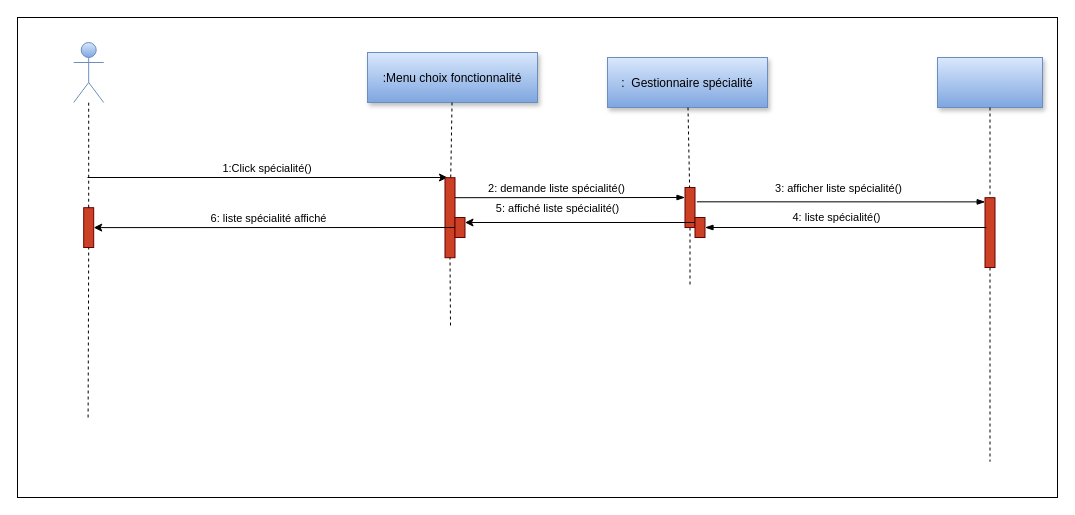
The diagram is 1075 pixels wide and 515 high, and some of its shapes have lost their labels. Here are the shapes that lost their labels. From the top down, the centre of each, then its label:
At (x=88, y=72): ":secrétaire".
At (x=990, y=83): ": spécialité".
